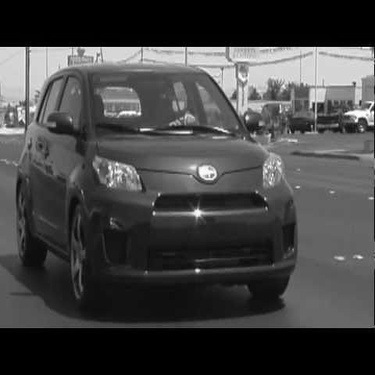car: (6, 51, 312, 290)
